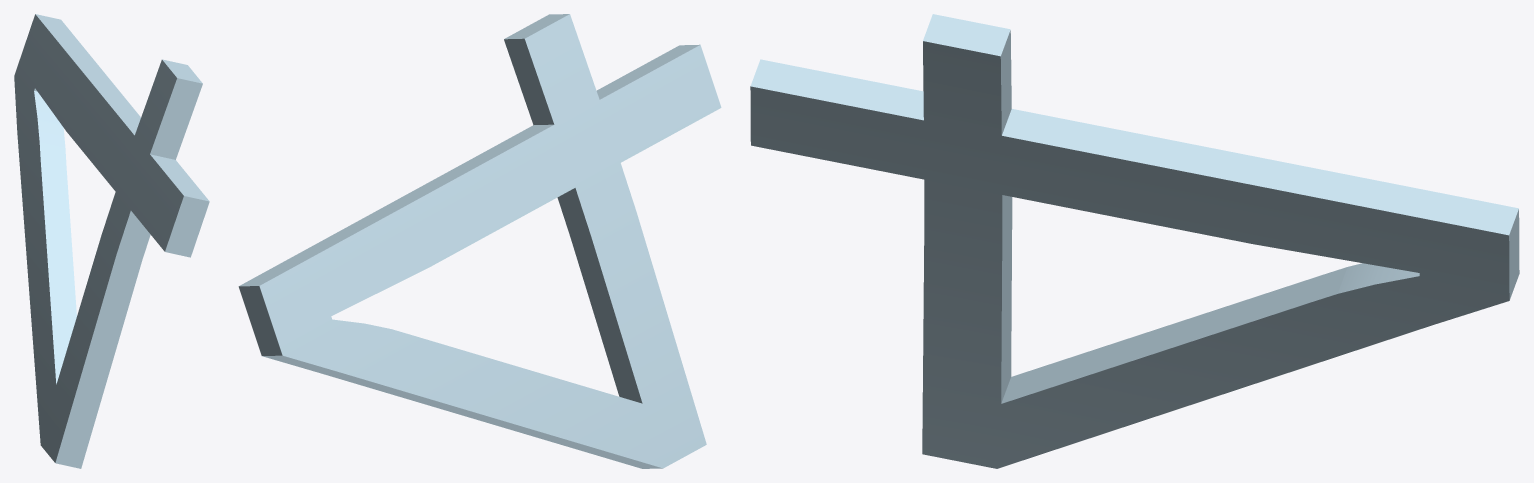
Rendered from Number_4.gltf.
The picture shows the model from 3 angles, left to right: view 1: azimuth 30°, elevation 25°; view 2: azimuth 150°, elevation 25°; view 3: azimuth 270°, elevation 25°; orthographic projection. The views are drawn at different scales.
Parts seen in each view (by area): view 1: Sub_9_Cell_2_1_Number_4; view 2: Sub_9_Cell_2_1_Number_4; view 3: Sub_9_Cell_2_1_Number_4.
Boxes of the visible parts, x1,y1,x2,y2 form: Sub_9_Cell_2_1_Number_4: [14, 14, 209, 468]; Sub_9_Cell_2_1_Number_4: [238, 14, 721, 468]; Sub_9_Cell_2_1_Number_4: [750, 14, 1519, 468].
Bounding box in the file's own units: 0.011 × 0.0183 × 0.0247.
